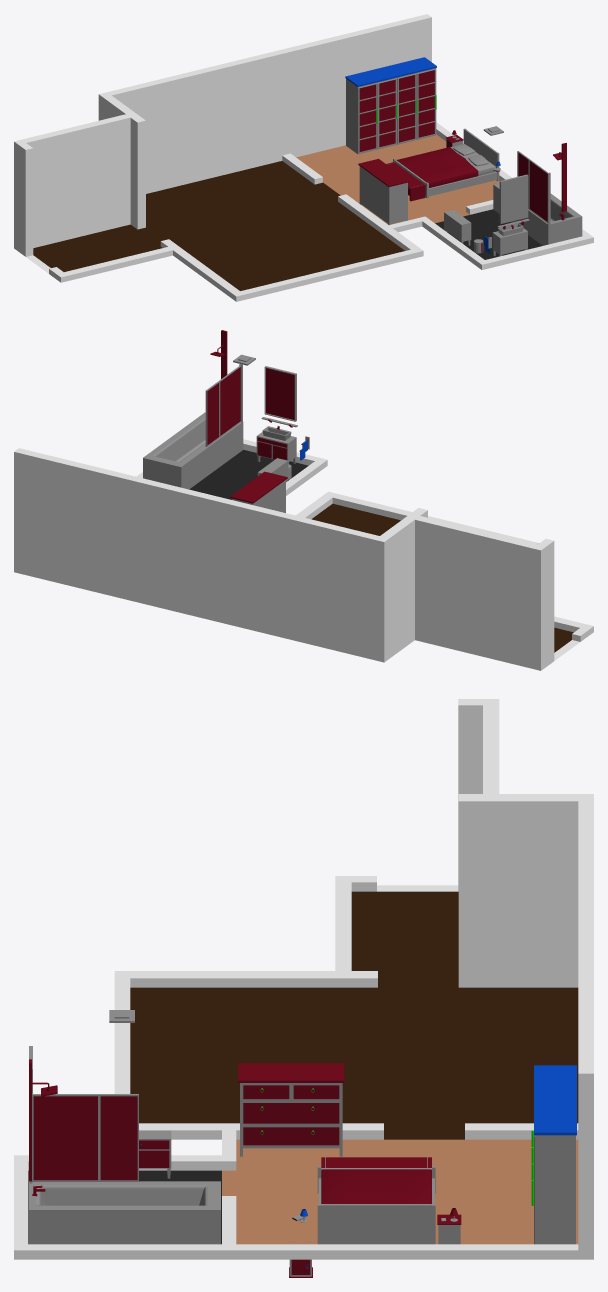
The model's file is Salle_02.FBX.
3 renders of one model, top to bottom at view 1: azimuth 30°, elevation 25°; view 2: azimuth 150°, elevation 25°; view 3: azimuth 270°, elevation 25°, orthographic. The views are drawn at different scales.
Parts seen in each view (by area): view 1: Piece_02, Armoire, Meuble_Chambre, baignoire, Lit, paroi_baignoire, somier, miroir, meuble_sousvasque, meuble_sousvasque001, coffre_Lit; view 2: Piece_02, baignoire, paroi_baignoire, miroir, Meuble_Chambre, meuble_sousvasque; view 3: Piece_02, baignoire, paroi_baignoire, Meuble_Chambre, Armoire, somier, Lit, meuble_sousvasque001, coffre_Lit.
Boxes of the visible parts, left/top/right/bottom form: Piece_02: left=14, top=14, right=593, bottom=301; Armoire: left=345, top=57, right=436, bottom=154; Meuble_Chambre: left=358, top=158, right=409, bottom=224; baignoire: left=493, top=143, right=582, bottom=245; Lit: left=396, top=144, right=495, bottom=187; paroi_baignoire: left=517, top=151, right=550, bottom=224; somier: left=393, top=128, right=499, bottom=198; miroir: left=499, top=174, right=528, bottom=223; meuble_sousvasque: left=492, top=228, right=527, bottom=256; meuble_sousvasque001: left=444, top=210, right=471, bottom=245; coffre_Lit: left=386, top=162, right=425, bottom=201; Piece_02: left=14, top=439, right=593, bottom=670; baignoire: left=143, top=330, right=243, bottom=489; paroi_baignoire: left=205, top=364, right=242, bottom=446; miroir: left=264, top=366, right=296, bottom=421; Meuble_Chambre: left=230, top=471, right=287, bottom=512; meuble_sousvasque: left=256, top=432, right=296, bottom=464; Piece_02: left=14, top=699, right=593, bottom=1259; baignoire: left=29, top=1059, right=220, bottom=1244; paroi_baignoire: left=29, top=1092, right=138, bottom=1183; Meuble_Chambre: left=238, top=1063, right=344, bottom=1156; Armoire: left=531, top=1065, right=576, bottom=1244; somier: left=317, top=1166, right=435, bottom=1244; Lit: left=321, top=1169, right=431, bottom=1203; meuble_sousvasque001: left=139, top=1130, right=171, bottom=1178; coffre_Lit: left=321, top=1157, right=431, bottom=1167.
Size of the model in its own units: 1294 by 347 by 847.
